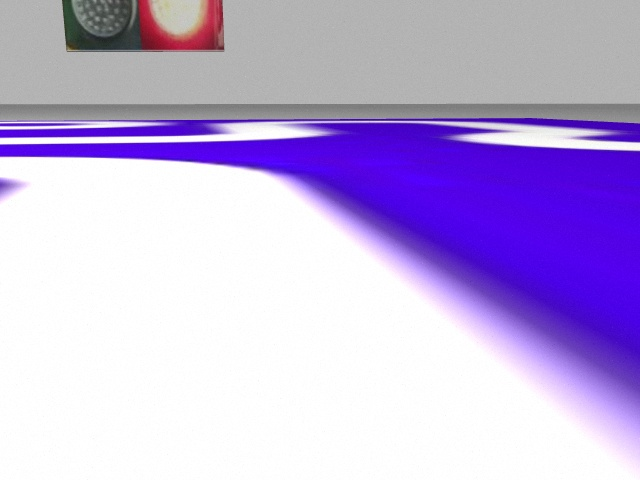red: (138, 1, 225, 48)
